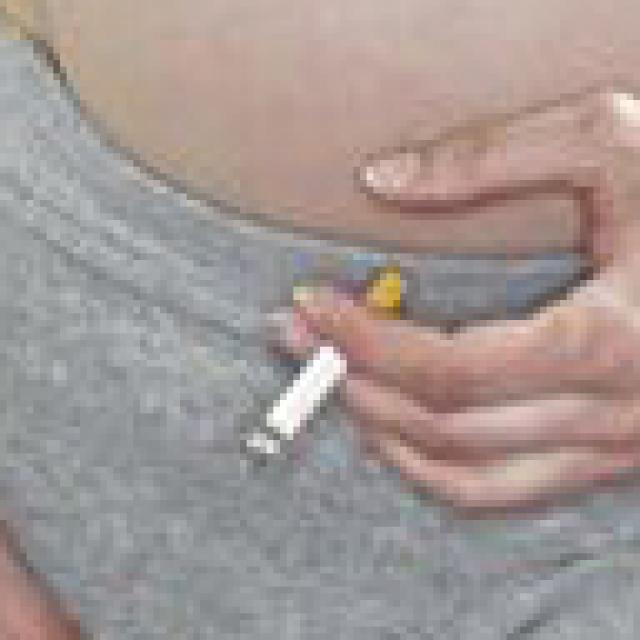smoking: (245, 272, 406, 468)
